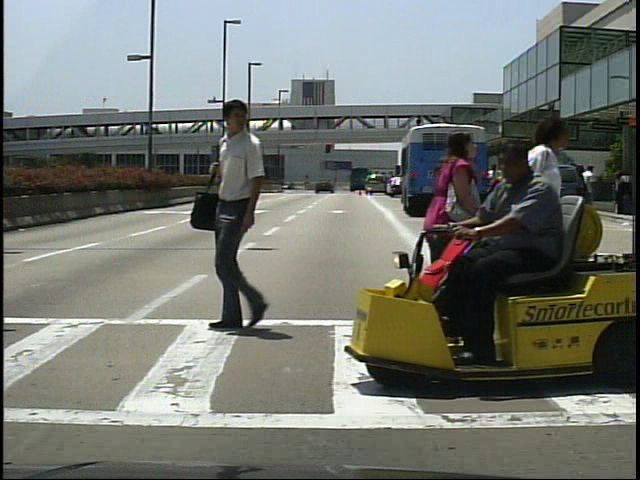person: (449, 143, 589, 378), (191, 95, 293, 339), (484, 109, 575, 364), (420, 125, 484, 356), (467, 190, 507, 322), (582, 163, 602, 218), (500, 166, 518, 219), (491, 163, 510, 213)
